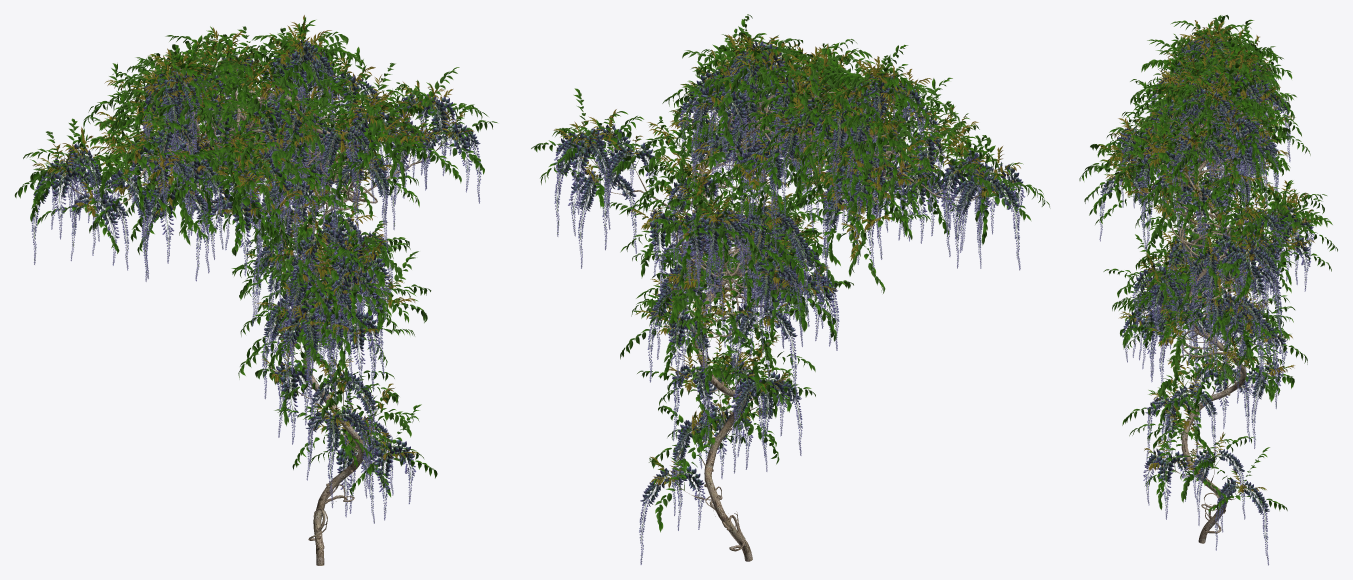
The model's file is wisteria_sinensis005.glb.
3 views of the same model, side by side, from view 1: azimuth 30°, elevation 25°; view 2: azimuth 150°, elevation 25°; view 3: azimuth 270°, elevation 25° (orthographic). The views are drawn at different scales.
Parts seen in each view (by area): view 1: Wisteria sinensis005_Leaves_2_0, Wisteria sinensis005_Leaves_5_0, Wisteria sinensis005_Leaves_1_0, Wisteria sinensis005_Leaves_6_0, Wisteria sinensis005_Material #5_0, Wisteria sinensis005_trunk_0, Wisteria sinensis005_Material #7_0, Wisteria sinensis005_Leaves_3_0; view 2: Wisteria sinensis005_Leaves_2_0, Wisteria sinensis005_Leaves_5_0, Wisteria sinensis005_Leaves_1_0, Wisteria sinensis005_Leaves_6_0, Wisteria sinensis005_Material #5_0, Wisteria sinensis005_trunk_0, Wisteria sinensis005_Material #7_0, Wisteria sinensis005_Leaves_3_0; view 3: Wisteria sinensis005_Leaves_2_0, Wisteria sinensis005_Leaves_5_0, Wisteria sinensis005_Leaves_1_0, Wisteria sinensis005_Material #5_0, Wisteria sinensis005_Leaves_6_0, Wisteria sinensis005_trunk_0, Wisteria sinensis005_Material #7_0, Wisteria sinensis005_Leaves_3_0.
Boxes of the visible parts, bbox=[...] form: Wisteria sinensis005_Leaves_2_0: bbox=[19, 17, 488, 497]; Wisteria sinensis005_Leaves_5_0: bbox=[33, 40, 480, 476]; Wisteria sinensis005_Leaves_1_0: bbox=[14, 24, 497, 491]; Wisteria sinensis005_Leaves_6_0: bbox=[32, 66, 480, 523]; Wisteria sinensis005_Material #5_0: bbox=[32, 15, 474, 460]; Wisteria sinensis005_trunk_0: bbox=[68, 54, 445, 565]; Wisteria sinensis005_Material #7_0: bbox=[34, 28, 484, 521]; Wisteria sinensis005_Leaves_3_0: bbox=[31, 87, 481, 498]; Wisteria sinensis005_Leaves_2_0: bbox=[531, 16, 1045, 532]; Wisteria sinensis005_Leaves_5_0: bbox=[555, 41, 1022, 506]; Wisteria sinensis005_Leaves_1_0: bbox=[535, 14, 1049, 524]; Wisteria sinensis005_Leaves_6_0: bbox=[554, 63, 1025, 564]; Wisteria sinensis005_Material #5_0: bbox=[553, 34, 1020, 487]; Wisteria sinensis005_trunk_0: bbox=[589, 71, 981, 561]; Wisteria sinensis005_Material #7_0: bbox=[548, 14, 1045, 559]; Wisteria sinensis005_Leaves_3_0: bbox=[554, 83, 1022, 533]; Wisteria sinensis005_Leaves_2_0: bbox=[1082, 15, 1337, 511]; Wisteria sinensis005_Leaves_5_0: bbox=[1100, 34, 1313, 514]; Wisteria sinensis005_Leaves_1_0: bbox=[1079, 15, 1335, 513]; Wisteria sinensis005_Material #5_0: bbox=[1097, 20, 1319, 493]; Wisteria sinensis005_Leaves_6_0: bbox=[1099, 51, 1314, 565]; Wisteria sinensis005_trunk_0: bbox=[1126, 63, 1294, 543]; Wisteria sinensis005_Material #7_0: bbox=[1087, 25, 1332, 541]; Wisteria sinensis005_Leaves_3_0: bbox=[1099, 56, 1311, 539].
Size of the model in its own units: 3.5 by 3.73 by 1.88.
Materials: 8 (8 with a texture image).
